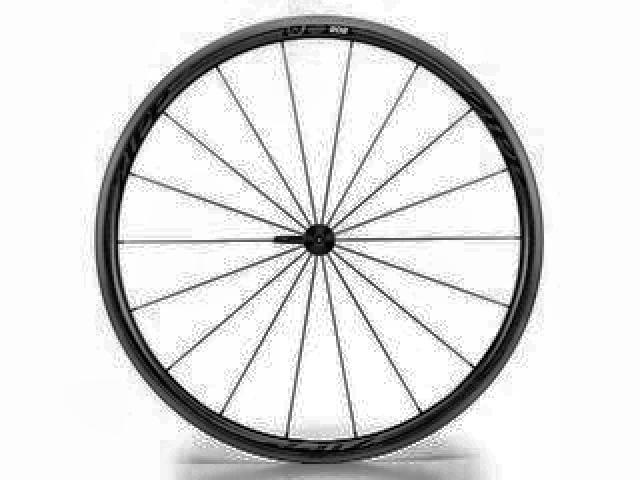wheel: (88, 10, 550, 464)
